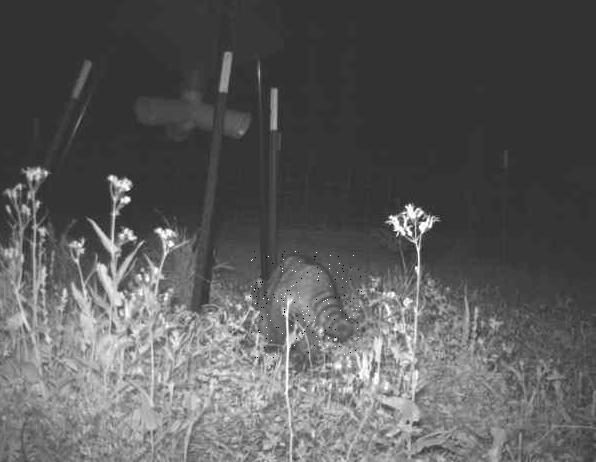Raccoon: (250, 252, 362, 359)
